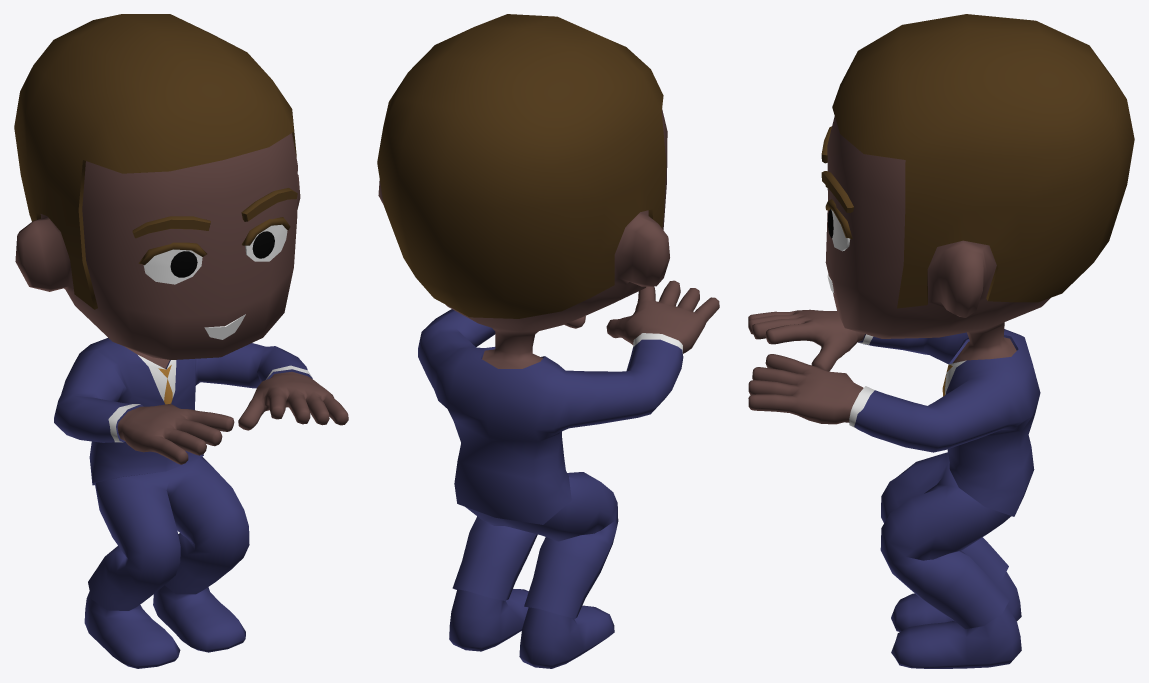
The model's file is Personajes_juzgado.fbx.
The picture shows the model from 3 angles, left to right: view 1: azimuth 30°, elevation 25°; view 2: azimuth 150°, elevation 25°; view 3: azimuth 270°, elevation 25°; orthographic projection. The views are drawn at different scales.
Parts seen in each view (by area): view 1: body.003, hair1, pants1.003, shirt3.003, socks.003, eyesbase2.003, eyebrows1.003, eyes6.003; view 2: hair1, shirt3.003, pants1.003, body.003, socks.003; view 3: hair1, body.003, shirt3.003, pants1.003, socks.003, eyebrows1.003, eyesbase2.003.
Boxes of the visible parts, x1=… form: body.003: x1=15, y1=133, x2=348, y2=464; hair1: x1=14, y1=14, x2=296, y2=309; pants1.003: x1=88, y1=456, x2=249, y2=610; shirt3.003: x1=54, y1=338, x2=312, y2=485; socks.003: x1=84, y1=585, x2=245, y2=668; eyesbase2.003: x1=138, y1=217, x2=290, y2=284; eyebrows1.003: x1=132, y1=188, x2=297, y2=238; eyes6.003: x1=170, y1=231, x2=274, y2=277; hair1: x1=377, y1=14, x2=666, y2=318; shirt3.003: x1=418, y1=309, x2=683, y2=524; pants1.003: x1=452, y1=472, x2=618, y2=618; body.003: x1=378, y1=109, x2=719, y2=368; socks.003: x1=449, y1=589, x2=614, y2=668; hair1: x1=832, y1=14, x2=1134, y2=308; body.003: x1=748, y1=116, x2=1050, y2=424; shirt3.003: x1=849, y1=329, x2=1040, y2=516; pants1.003: x1=880, y1=452, x2=1011, y2=629; socks.003: x1=891, y1=572, x2=1021, y2=668; eyebrows1.003: x1=821, y1=126, x2=853, y2=212; eyesbase2.003: x1=825, y1=185, x2=852, y2=251.
Bounding box in the file's own units: 74.78 × 154 × 87.58.
